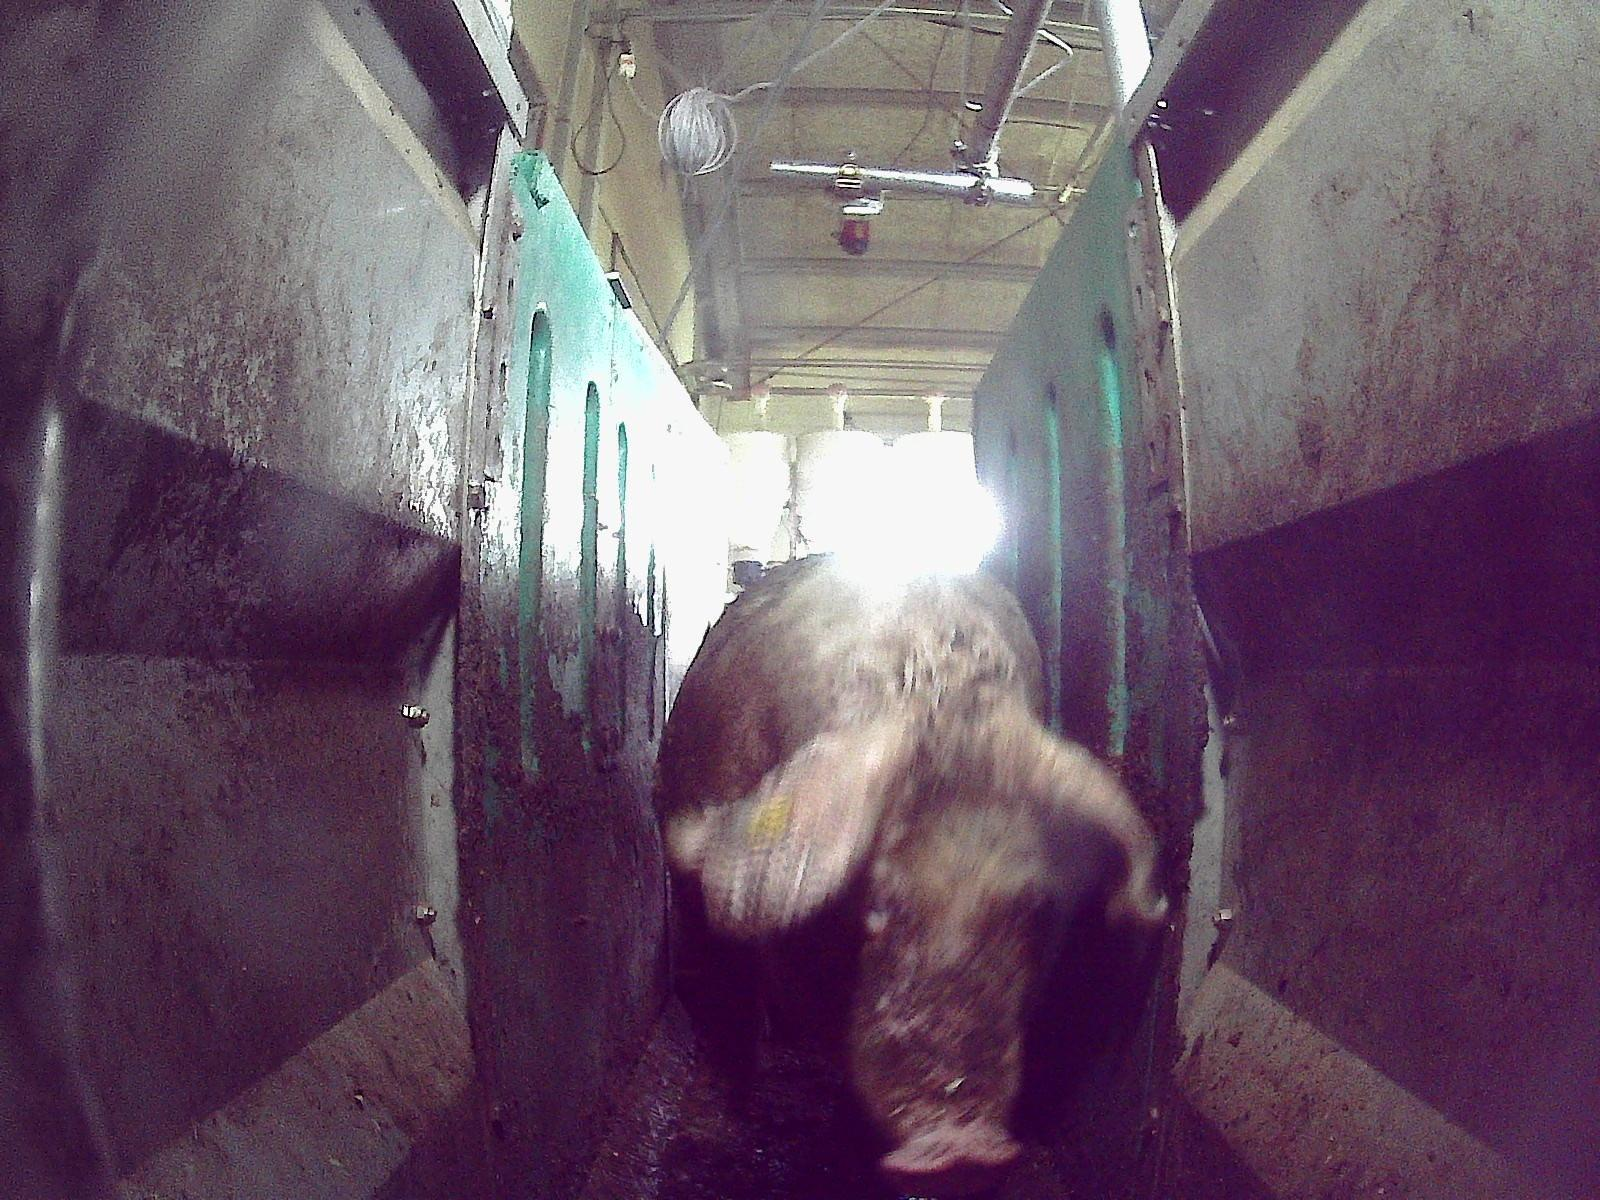Face: (784, 701, 1080, 1196)
